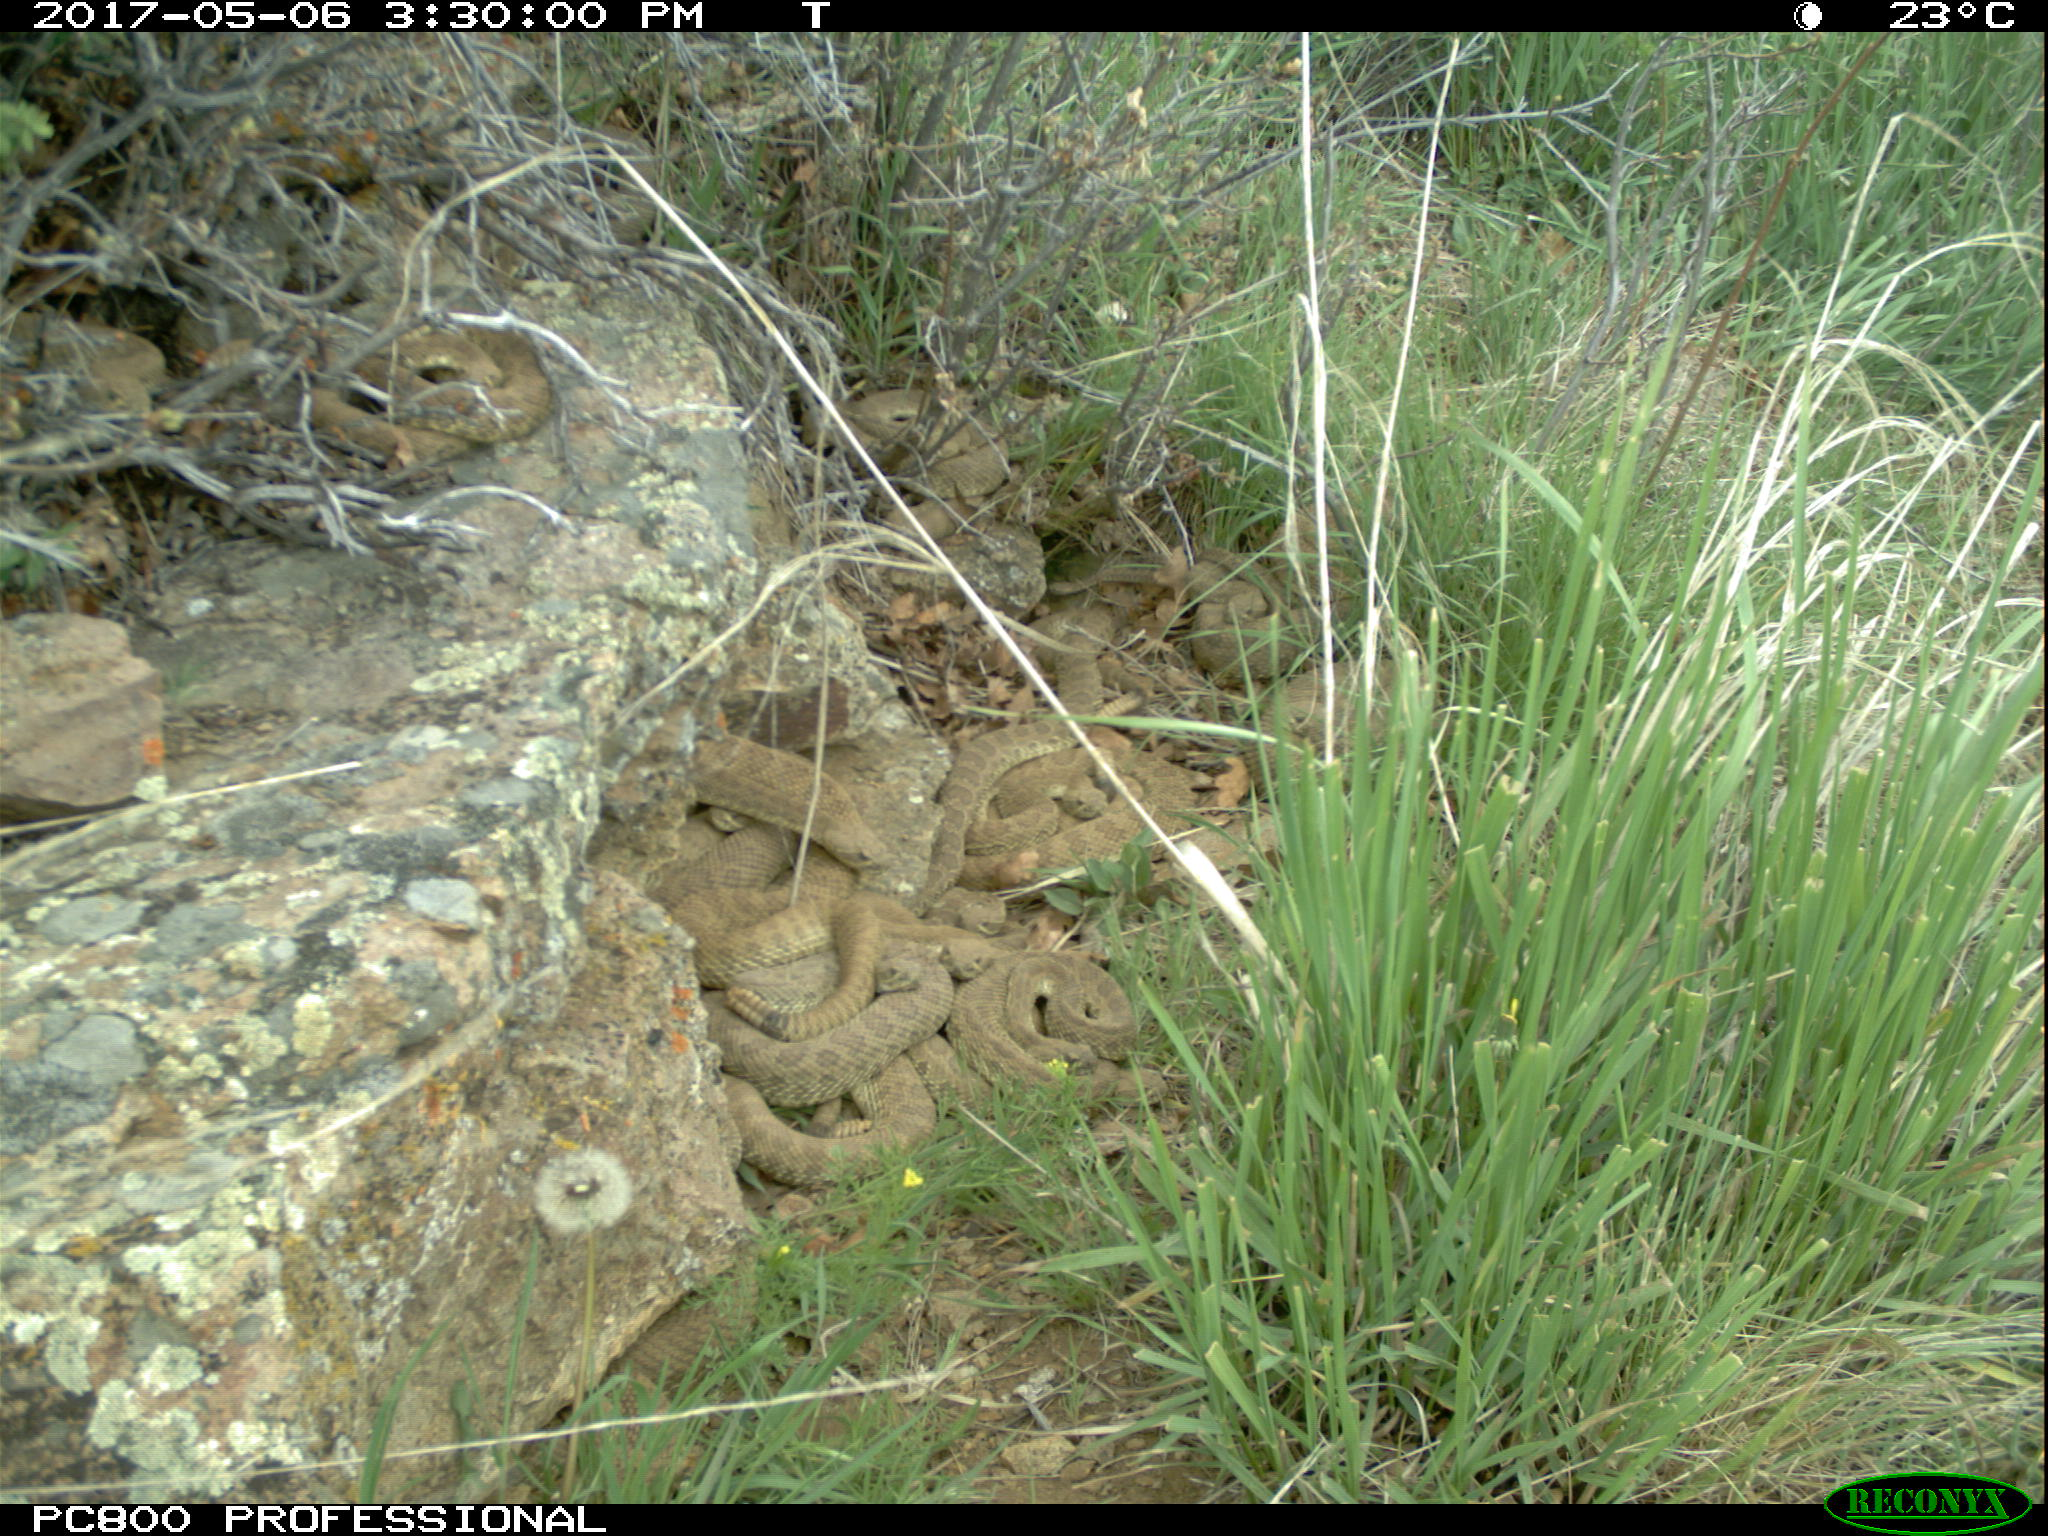snake: (656, 736, 934, 934), (935, 707, 1226, 892), (703, 957, 940, 1179), (1164, 558, 1443, 745), (943, 941, 1180, 1117), (539, 1297, 740, 1492), (306, 316, 560, 463), (827, 386, 1021, 563)
